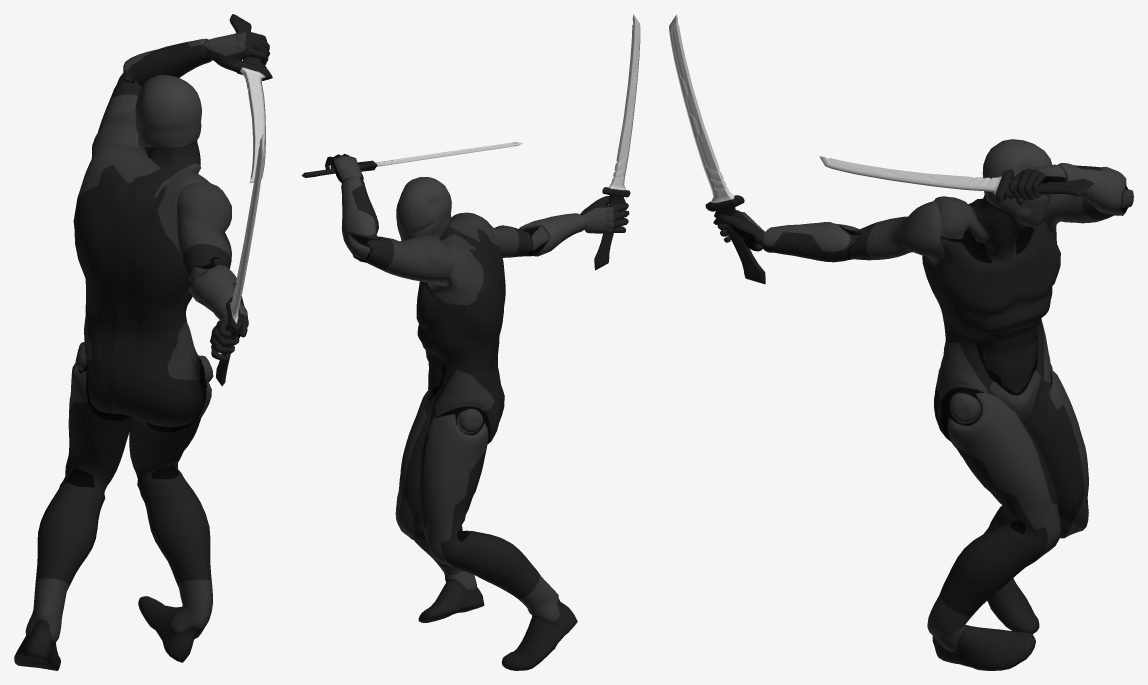
3 renders of one model, left to right at view 1: azimuth 30°, elevation 25°; view 2: azimuth 150°, elevation 25°; view 3: azimuth 270°, elevation 25°, orthographic. The views are drawn at different scales.
Visible parts, largest first — view 1: Cyborg_Ninja_Killer, Sword_l, Sword_l001; view 2: Cyborg_Ninja_Killer, Sword_l001, Sword_l; view 3: Cyborg_Ninja_Killer, Sword_l001, Sword_l.
Boxes of the visible parts, x1,y1,x2,y2 form: Cyborg_Ninja_Killer: [14, 31, 269, 670]; Sword_l: [229, 14, 272, 183]; Sword_l001: [216, 134, 264, 386]; Cyborg_Ninja_Killer: [325, 153, 629, 670]; Sword_l001: [594, 14, 640, 270]; Sword_l: [301, 142, 523, 177]; Cyborg_Ninja_Killer: [713, 139, 1133, 670]; Sword_l001: [669, 14, 765, 284]; Sword_l: [819, 156, 1093, 201].
Size of the model in its own units: 89.68 by 200 by 134.
Materials: 2 (2 with a texture image).
